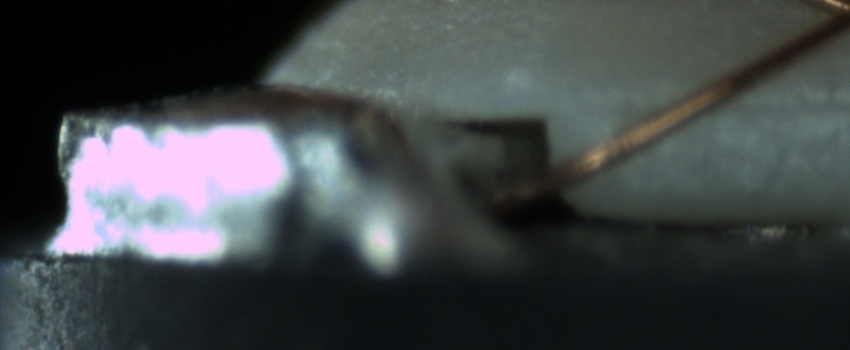DL: (610, 70, 848, 137)
